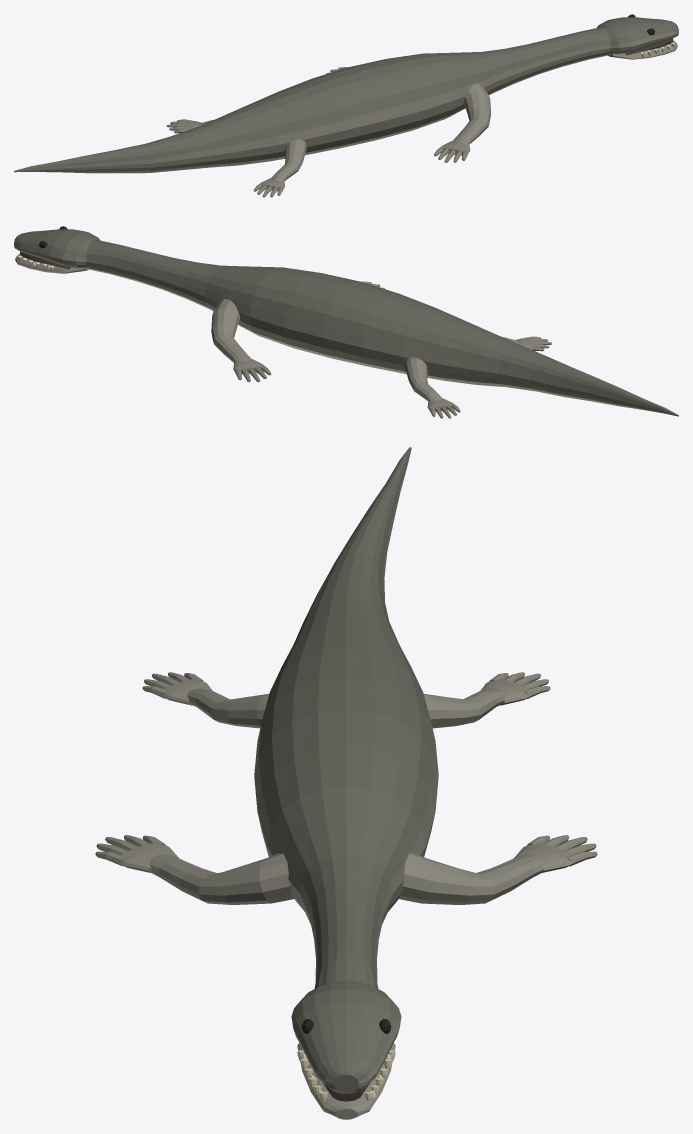
3 renders of one model, top to bottom at view 1: azimuth 30°, elevation 25°; view 2: azimuth 150°, elevation 25°; view 3: azimuth 270°, elevation 25°, orthographic. The views are drawn at different scales.
Visible parts, largest first — view 1: 01_Trunk_neck_tail, 02_Broad_blunt_cranium, 05_forelimb_right, 05_hindlimb_right, 03_Lower_jaw, 05_hindlimb_left; view 2: 01_Trunk_neck_tail, 02_Broad_blunt_cranium, 05_forelimb_left, 05_hindlimb_left, 03_Lower_jaw, 05_hindlimb_right; view 3: 01_Trunk_neck_tail, 02_Broad_blunt_cranium, 05_forelimb_left, 05_forelimb_right, 05_hindlimb_left, 05_hindlimb_right, 03_Lower_jaw.
Boxes of the visible parts, left/top/right/bottom form: 01_Trunk_neck_tail: left=14, top=27, right=611, bottom=173; 02_Broad_blunt_cranium: left=597, top=17, right=678, bottom=54; 05_forelimb_right: left=434, top=83, right=490, bottom=162; 05_hindlimb_right: left=253, top=139, right=306, bottom=197; 03_Lower_jaw: left=608, top=41, right=677, bottom=59; 05_hindlimb_left: left=166, top=119, right=213, bottom=133; 01_Trunk_neck_tail: left=85, top=240, right=678, bottom=416; 02_Broad_blunt_cranium: left=14, top=229, right=100, bottom=267; 05_forelimb_left: left=211, top=298, right=271, bottom=382; 05_hindlimb_left: left=405, top=357, right=460, bottom=418; 03_Lower_jaw: left=15, top=254, right=88, bottom=273; 05_hindlimb_right: left=502, top=336, right=551, bottom=351; 01_Trunk_neck_tail: left=254, top=447, right=438, bottom=988; 02_Broad_blunt_cranium: left=291, top=981, right=401, bottom=1093; 05_forelimb_left: left=398, top=835, right=597, bottom=904; 05_forelimb_right: left=95, top=835, right=294, bottom=904; 05_hindlimb_left: left=423, top=672, right=550, bottom=728; 05_hindlimb_right: left=142, top=672, right=269, bottom=728; 03_Lower_jaw: left=297, top=1043, right=395, bottom=1119.
Size of the model in its own units: 4.2 by 0.41 by 1.41.
